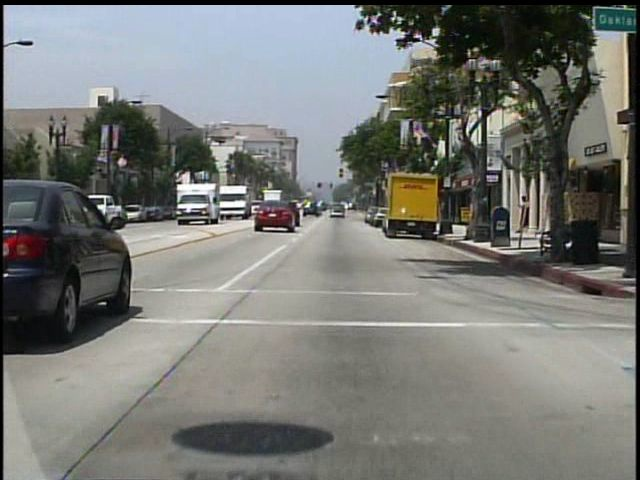person: (514, 195, 529, 236)
